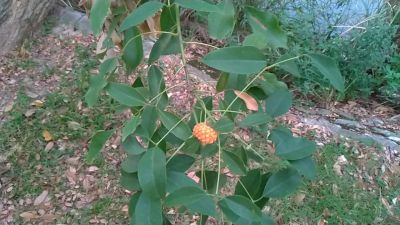eggs: (190, 118, 220, 146)
